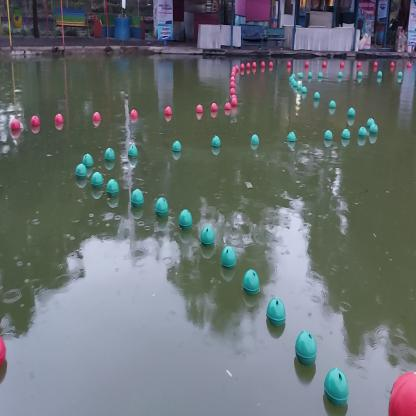green_buoy: (323, 365, 349, 407), (265, 291, 286, 331), (295, 328, 318, 364), (240, 263, 258, 298), (177, 206, 194, 233), (198, 223, 216, 248), (220, 243, 235, 272), (124, 137, 141, 162), (90, 166, 104, 196), (129, 184, 145, 210), (70, 163, 90, 183), (154, 193, 168, 221), (106, 174, 121, 199), (170, 135, 184, 158), (208, 132, 223, 151), (81, 148, 93, 170), (357, 121, 369, 141), (287, 127, 298, 148), (367, 122, 382, 137), (104, 143, 115, 163), (249, 130, 260, 148), (364, 114, 377, 129), (324, 126, 334, 145), (341, 124, 350, 142), (329, 99, 337, 113), (347, 104, 356, 116)
red_buoy: (0, 327, 14, 371), (194, 101, 209, 119), (10, 116, 23, 134), (162, 103, 175, 120), (91, 108, 103, 126), (30, 112, 42, 130), (52, 111, 66, 126), (128, 107, 140, 123), (224, 100, 233, 115), (210, 101, 219, 115), (231, 95, 239, 108)
